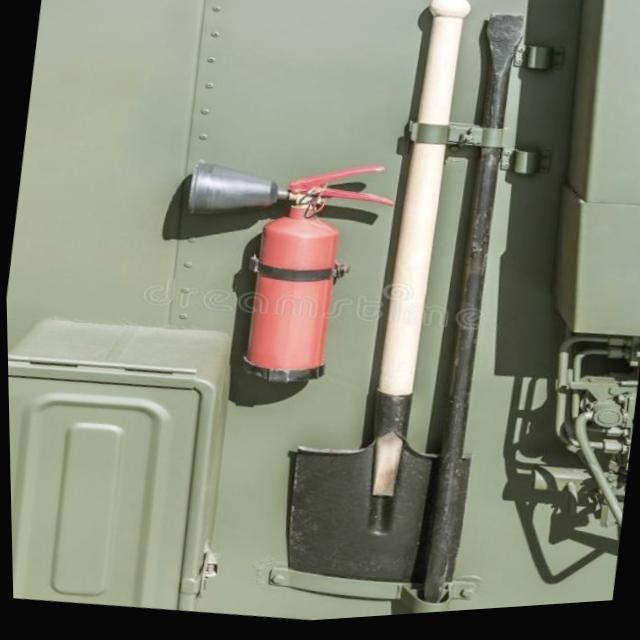FireExtinguisher: (148, 139, 406, 409)
